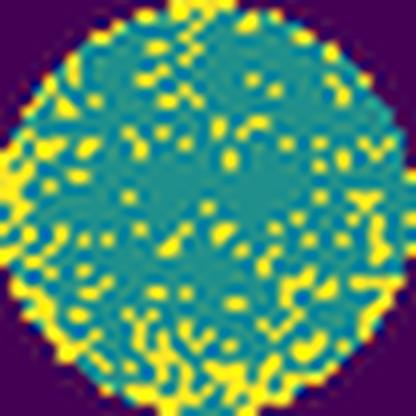Edge-Loc: (12, 273, 91, 363), (346, 266, 411, 347), (0, 126, 35, 237)
